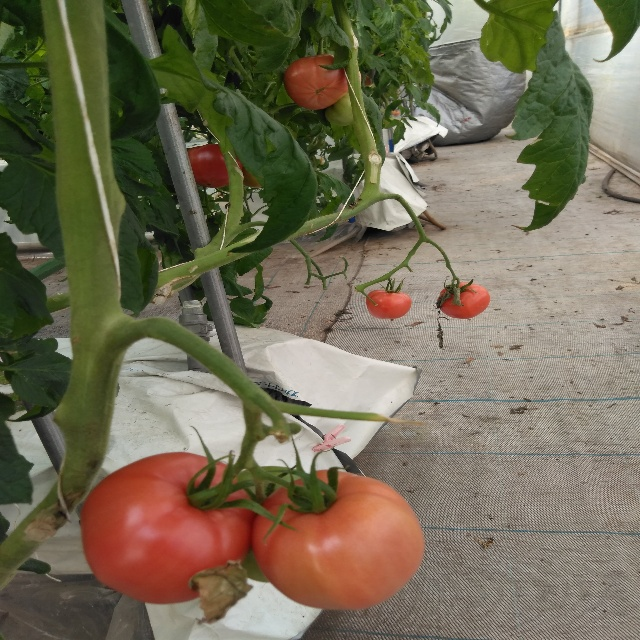b_fully_ripened: (80, 452, 258, 605), (187, 143, 242, 189), (437, 282, 490, 319), (365, 290, 411, 319)
b_green: (324, 91, 354, 126)
b_half_ripened: (250, 468, 425, 611), (284, 53, 361, 111)
